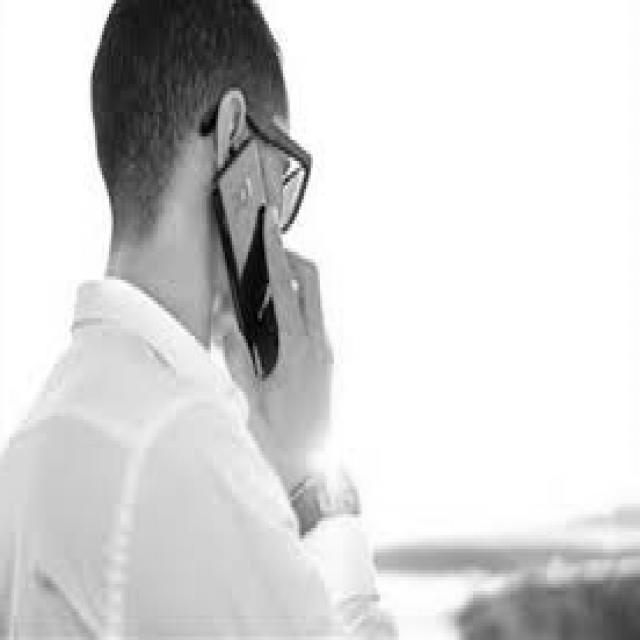phone: (202, 84, 357, 458)
